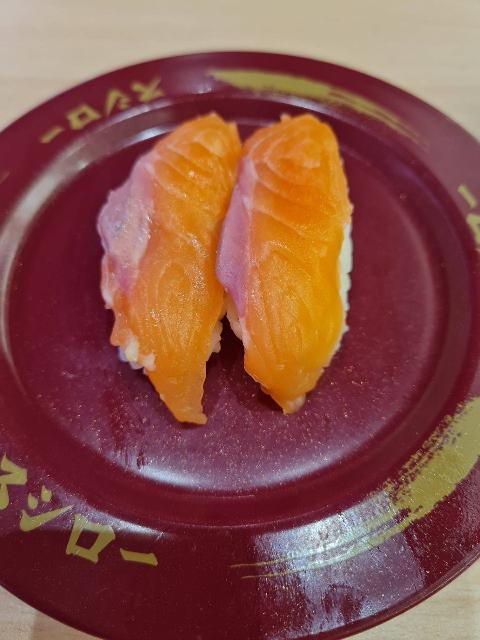janred: (0, 64, 480, 608)
